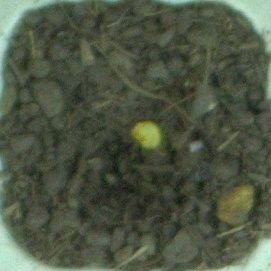chilli seed: (131, 119, 162, 150)
